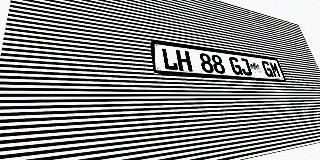plate: (150, 41, 287, 81)
